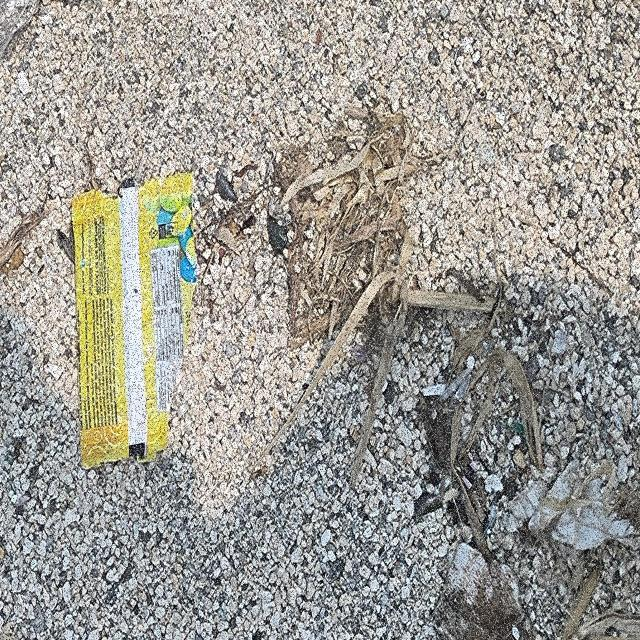plastic_waste: (71, 171, 199, 473)
